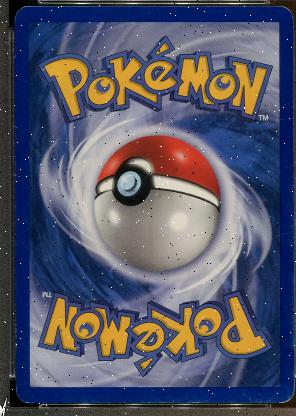Card: (13, 2, 293, 406)
Corner Wear: (16, 382, 38, 405), (273, 384, 294, 404)
Edge Wear: (290, 168, 293, 350), (78, 400, 272, 402), (15, 304, 17, 358), (24, 401, 35, 403), (14, 53, 15, 59)
Scratch: (22, 218, 64, 282), (148, 388, 210, 402), (233, 388, 273, 402), (70, 386, 101, 404), (235, 126, 253, 138), (278, 222, 291, 236), (279, 94, 291, 107), (20, 340, 30, 352), (23, 174, 34, 178), (14, 174, 20, 176), (14, 126, 18, 128)
